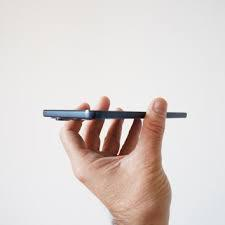Hand: (60, 99, 174, 211)
Smartphone: (43, 107, 199, 121)
